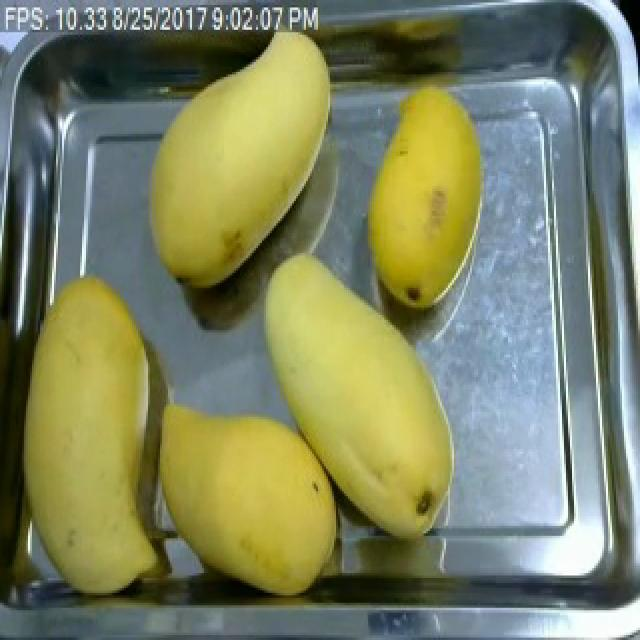fruit: (246, 238, 466, 546), (6, 265, 188, 603), (136, 22, 344, 303), (140, 392, 350, 603), (354, 67, 502, 320)
